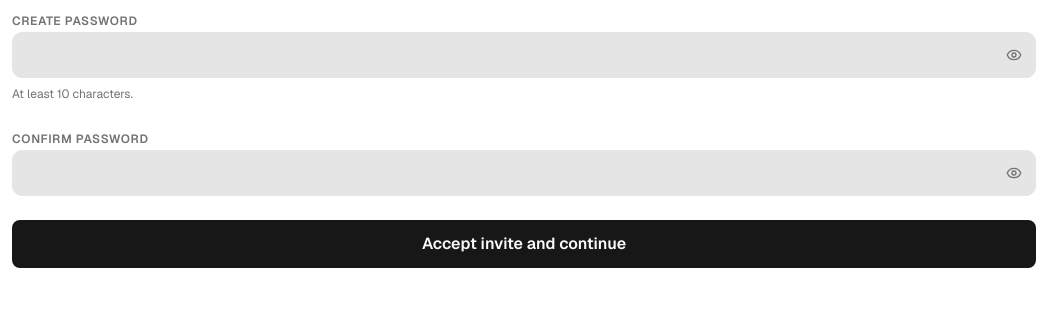
AcceptInviteForm › shows a retryable failure message and keeps the form when the API is unreachable
Type "longenough1" into the password field with test id "admin-accept-invite-password" at (524, 55), box [12, 32, 1036, 78]
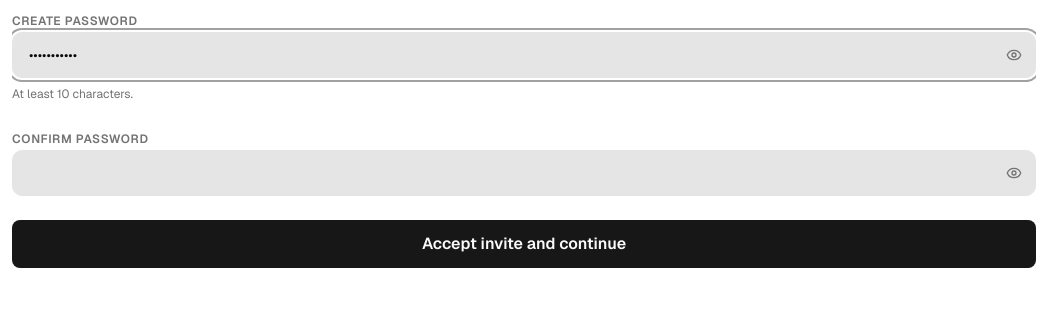
Type "longenough1" into the password field with test id "admin-accept-invite-confirm-password" at (524, 173), box [12, 150, 1036, 196]
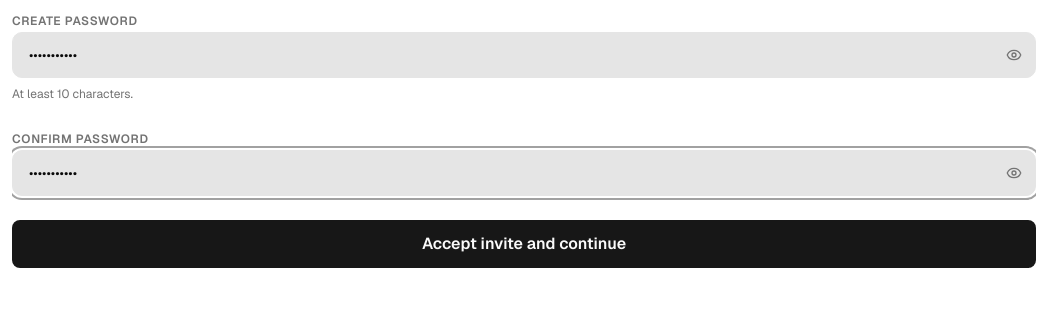
Click the button with test id "admin-accept-invite-submit" at (524, 244), box [12, 220, 1036, 268]
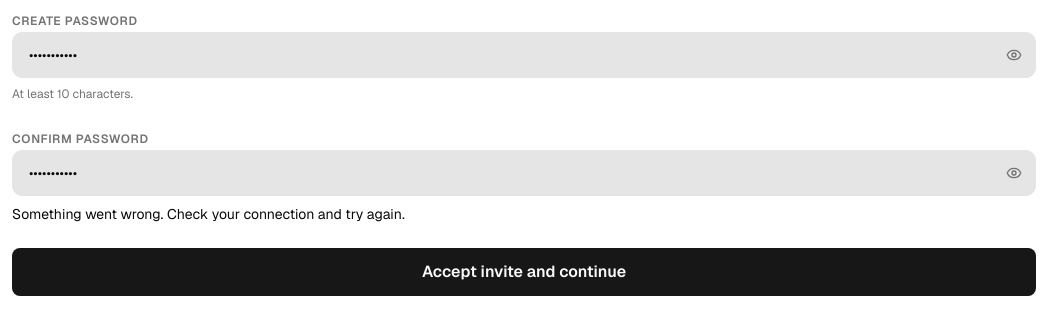
Result: the message with test id "admin-accept-invite-error" shows "Something went wrong" at [12, 205, 405, 223]
